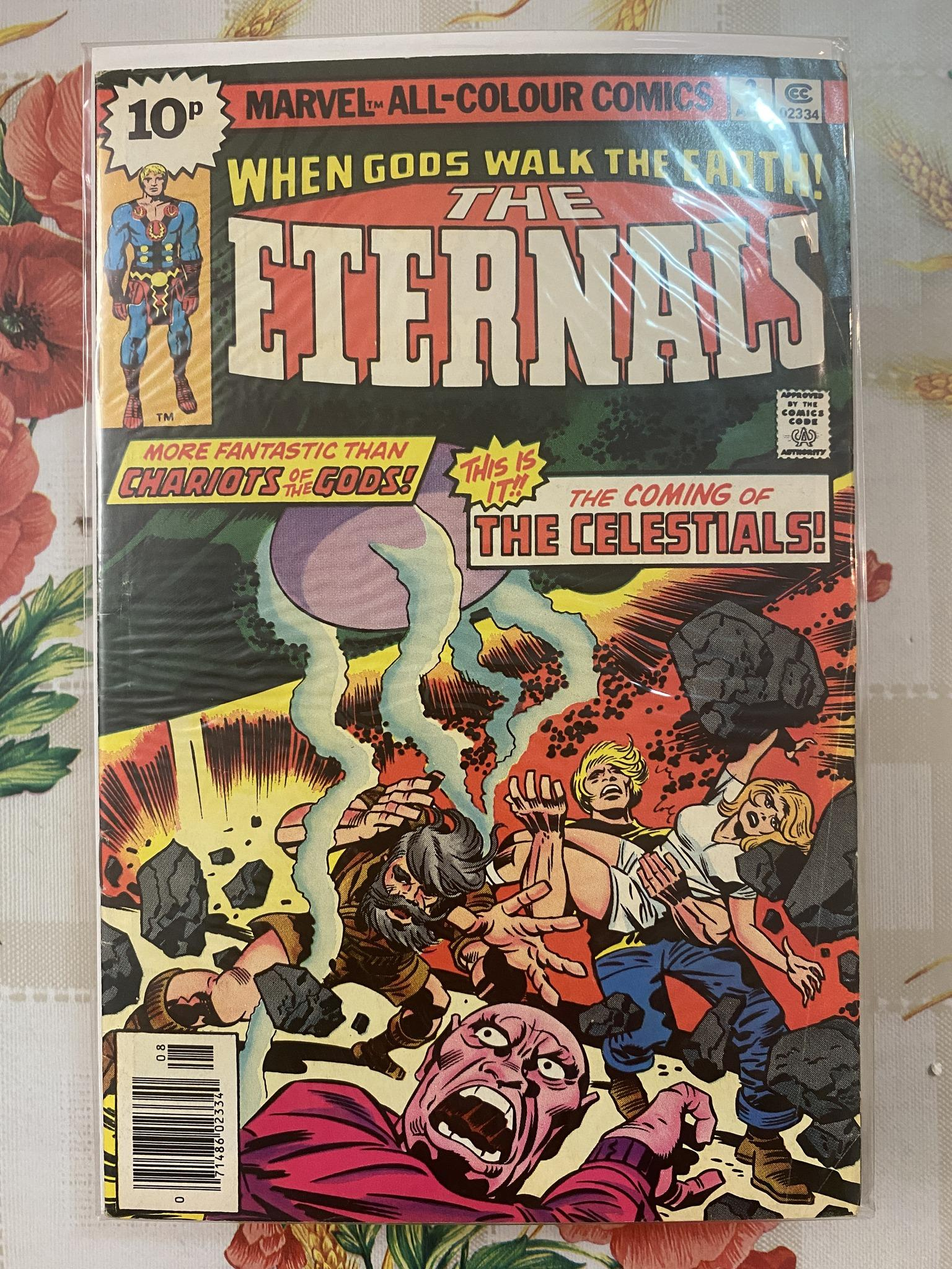comic: (89, 30, 864, 1229)
